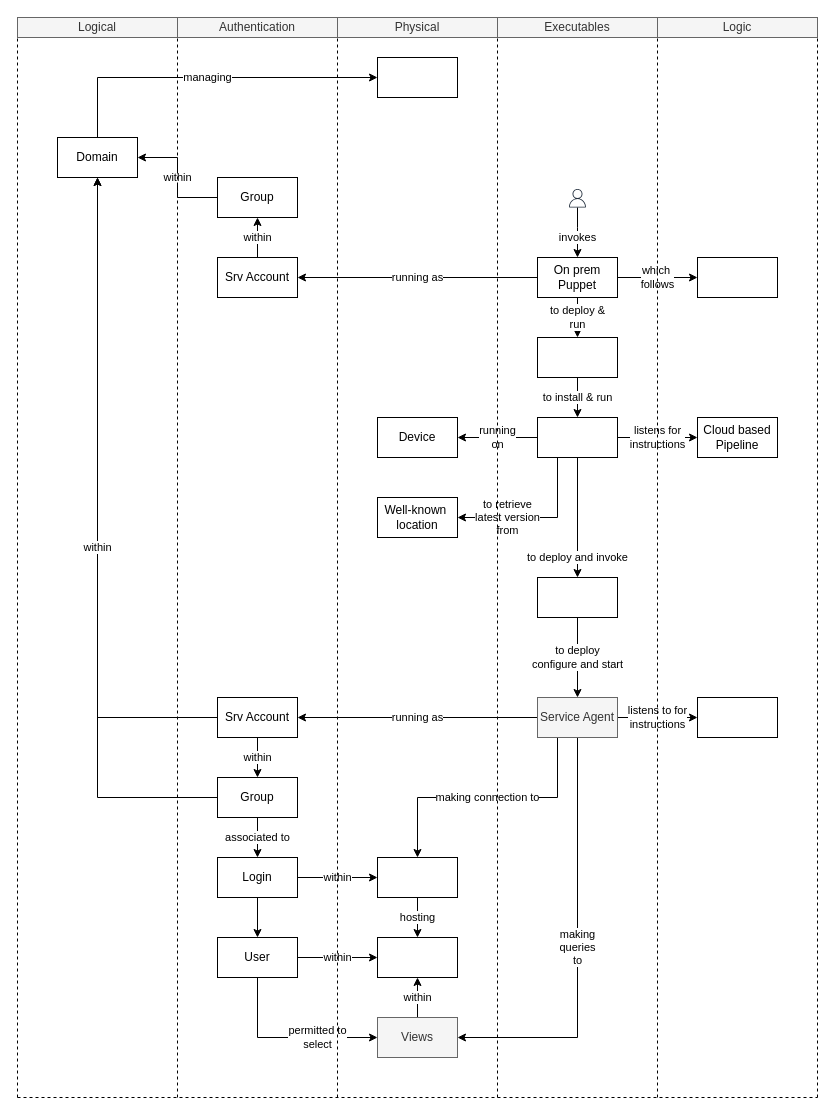
This 836x1116 diagram has some shape labels left out. The centre of each missing label's shape, as x and y in pixels:
"Cloud Service Deployment Pipeline Agent" belongs at (x=577, y=437).
"Cloud Service Deployment Pipeline Agent installer" belongs at (x=577, y=357).
"Database" belongs at (x=417, y=957).
"Database Server" belongs at (x=417, y=877).
"Instructions" belongs at (x=737, y=277).
"Integraiton Service Orchestrator" belongs at (x=737, y=717).
"Network" belongs at (x=417, y=77).
"Service Agent Installer" belongs at (x=577, y=597).
"Specialist" belongs at (x=577, y=197).
